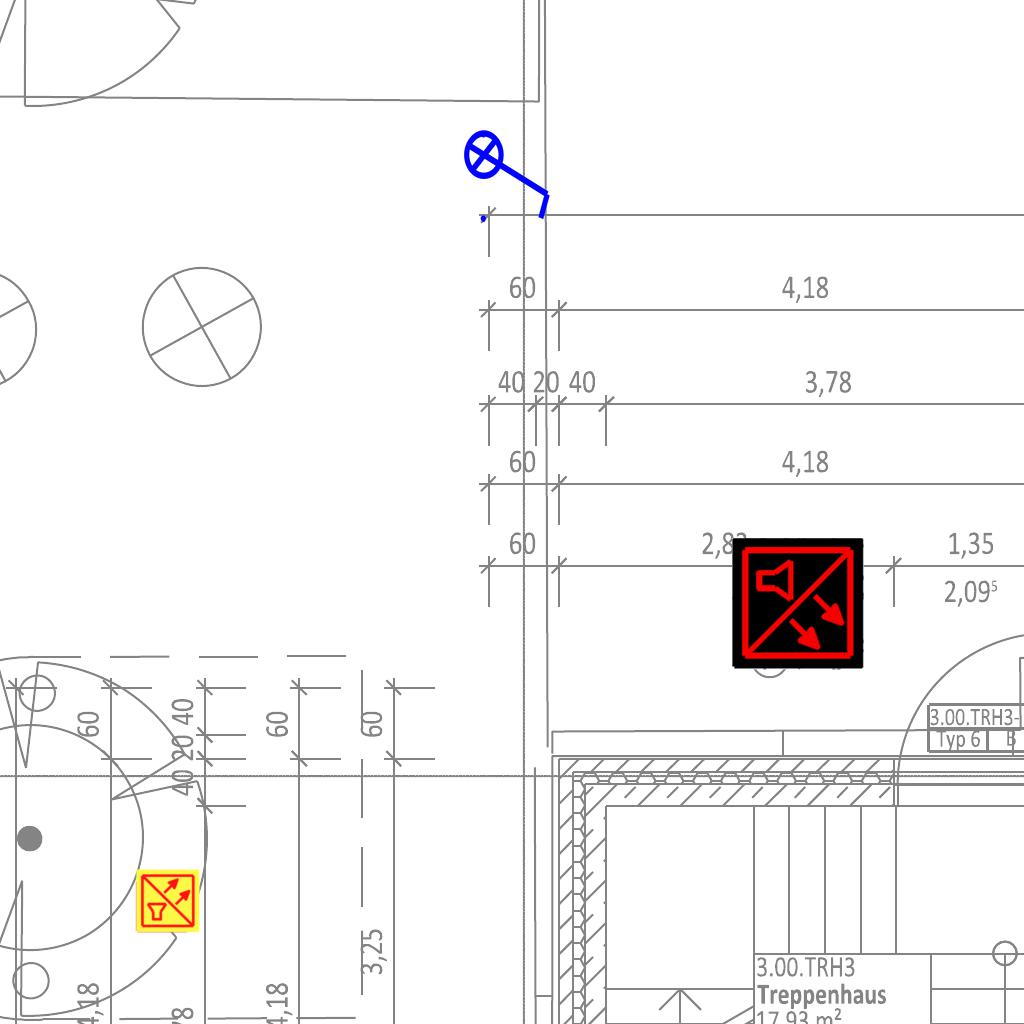Ausschalter_beleuchtet: (462, 116, 558, 228)
OKW_Multisensormelder_(Kombination_optischer_Rauch-Kahlenmonoxid_Waerme-Melder): (732, 538, 864, 670), (135, 868, 201, 934)
